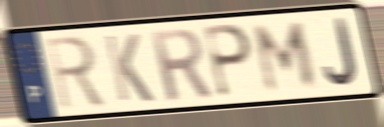J: (322, 15, 361, 89)
K: (101, 31, 157, 105)
M: (253, 20, 320, 96)
P: (201, 22, 255, 100)
R: (146, 25, 216, 104), (43, 33, 110, 114)
